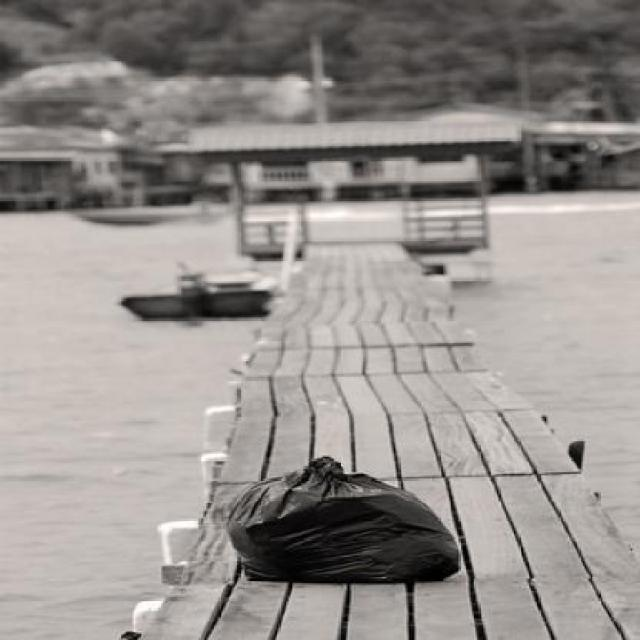plastic bag: (226, 457, 463, 586)
